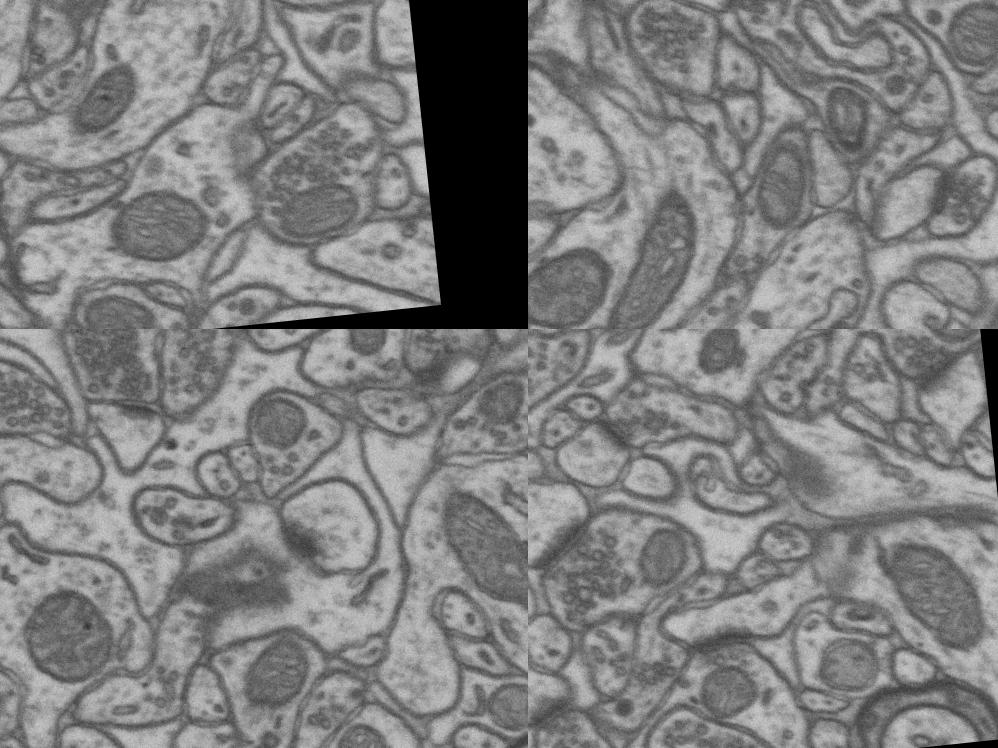mitochondria: (851, 510, 980, 656), (591, 178, 713, 329), (10, 574, 132, 702), (429, 477, 528, 624), (93, 184, 216, 279), (258, 168, 376, 260), (528, 231, 624, 329), (50, 52, 149, 145), (230, 628, 324, 720), (800, 622, 896, 712), (747, 128, 819, 230), (614, 536, 692, 621), (684, 655, 758, 732), (244, 386, 320, 458), (936, 0, 998, 74), (468, 672, 528, 746), (818, 82, 876, 154), (73, 287, 171, 329), (472, 371, 528, 441), (688, 329, 752, 371), (321, 714, 398, 748), (339, 329, 396, 369)
